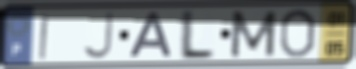A: (127, 11, 175, 60)
I: (37, 12, 52, 62)
J: (80, 10, 116, 61)
L: (175, 8, 218, 61)
M: (228, 10, 279, 59)
O: (278, 7, 319, 60)
